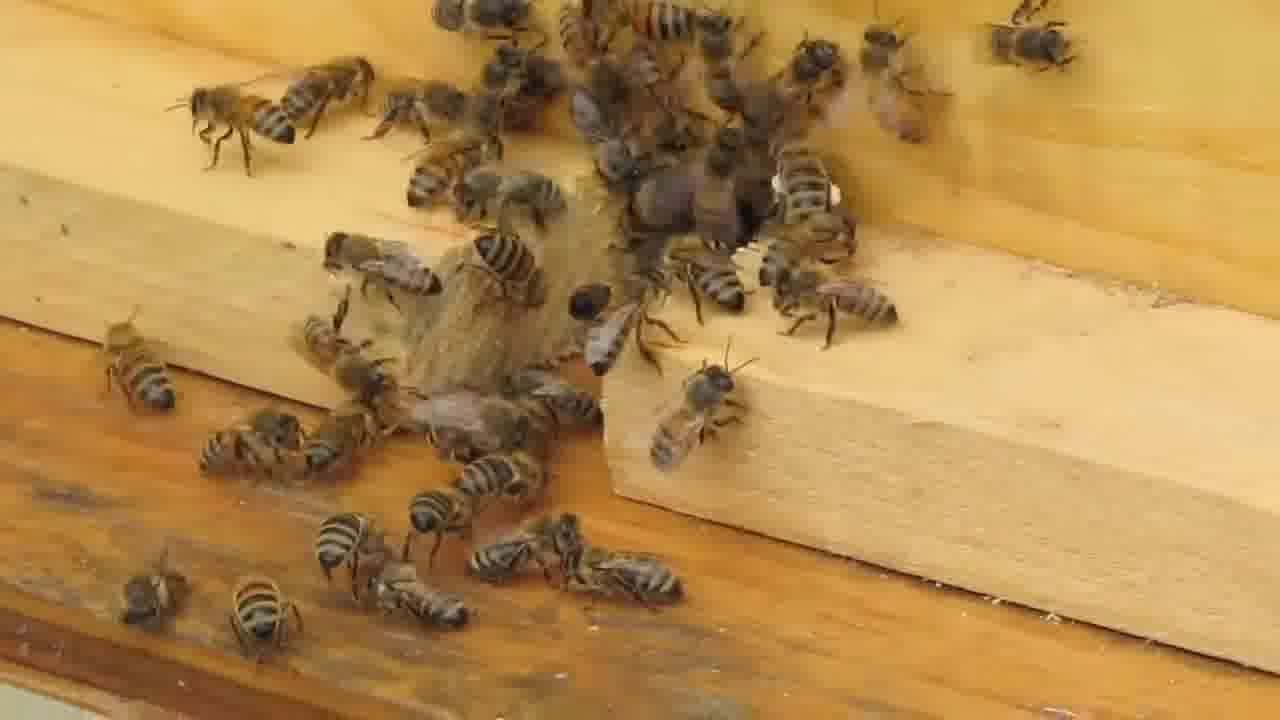pollen: (768, 144, 848, 228)
